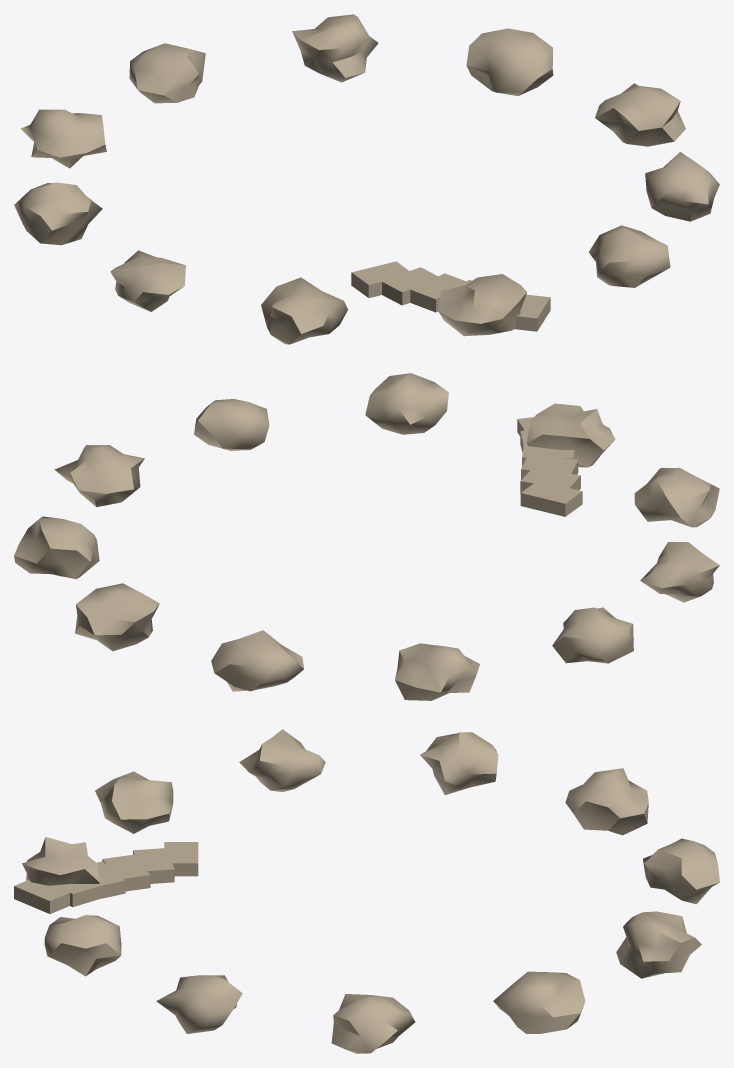
File: garden_rocks.glb
The picture shows the model from 3 angles, top to bottom: view 1: azimuth 30°, elevation 25°; view 2: azimuth 150°, elevation 25°; view 3: azimuth 270°, elevation 25°; orthographic projection.
Visible parts, largest first — view 1: Detail.garden_rocks.Stone; view 2: Detail.garden_rocks.Stone; view 3: Detail.garden_rocks.Stone.
Boxes of the visible parts, left/top/right/bottom form: Detail.garden_rocks.Stone: left=14, top=14, right=719, bottom=344; Detail.garden_rocks.Stone: left=14, top=373, right=719, bottom=700; Detail.garden_rocks.Stone: left=14, top=729, right=719, bottom=1053.
Size of the model in its own units: 10.73 by 1.01 by 10.8.
